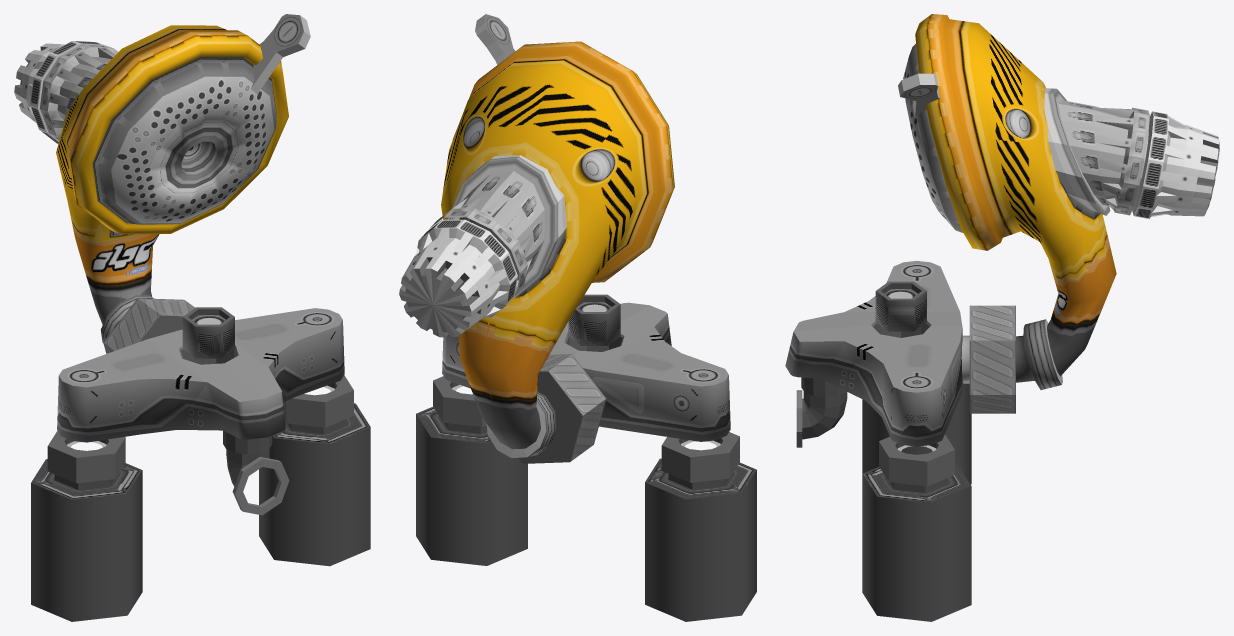
Rendered from mars-outfall.glb.
3 views of the same model, side by side, from view 1: azimuth 30°, elevation 25°; view 2: azimuth 150°, elevation 25°; view 3: azimuth 270°, elevation 25° (orthographic). The views are drawn at different scales.
Visible parts, largest first — view 1: Cylinder; view 2: Cylinder; view 3: Cylinder.
Boxes of the visible parts, x1,y1,x2,y2 form: Cylinder: (14,14,370,621); Cylinder: (399,14,756,621); Cylinder: (785,14,1219,621).
Size of the model in its own units: 25.22 by 39.4 by 29.88.
Materials: 1 (1 with a texture image).
